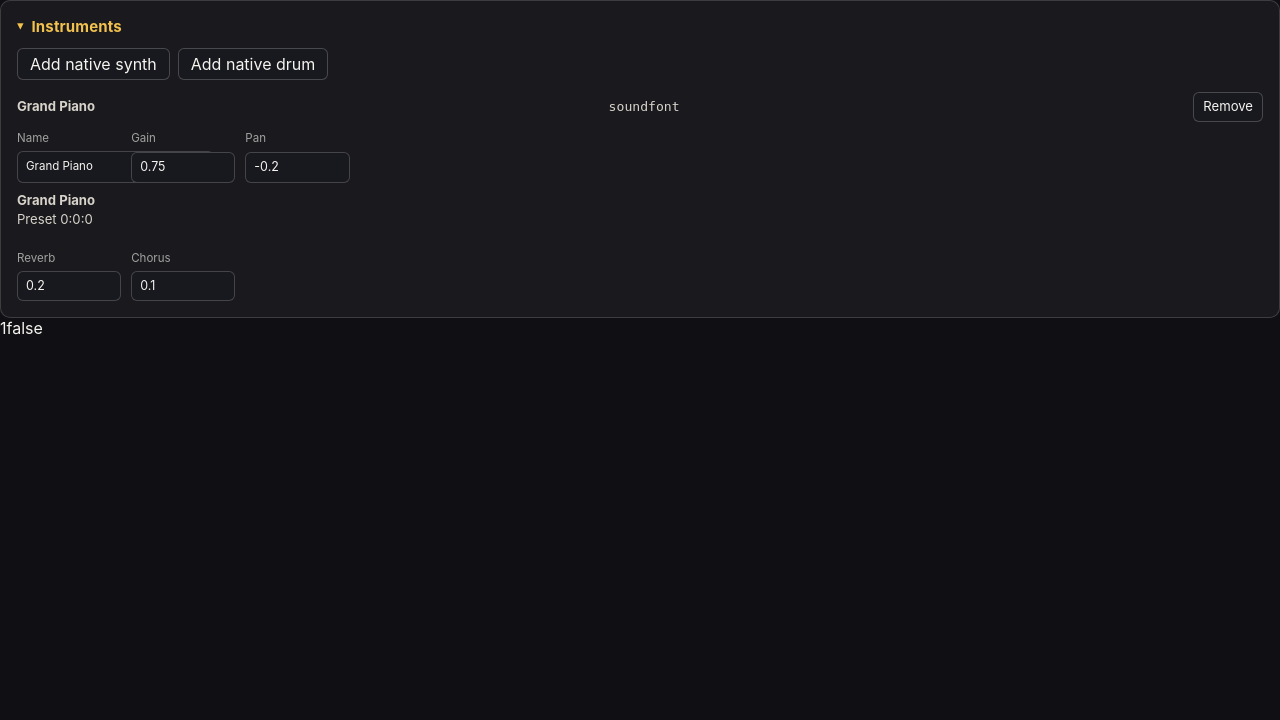
Scenario: InstrumentPanel add and remove › refuses to remove the last Instrument
Click the button with aria-label "Remove Grand Piano".
click(1228, 107)  # box [1193,92,1263,122]
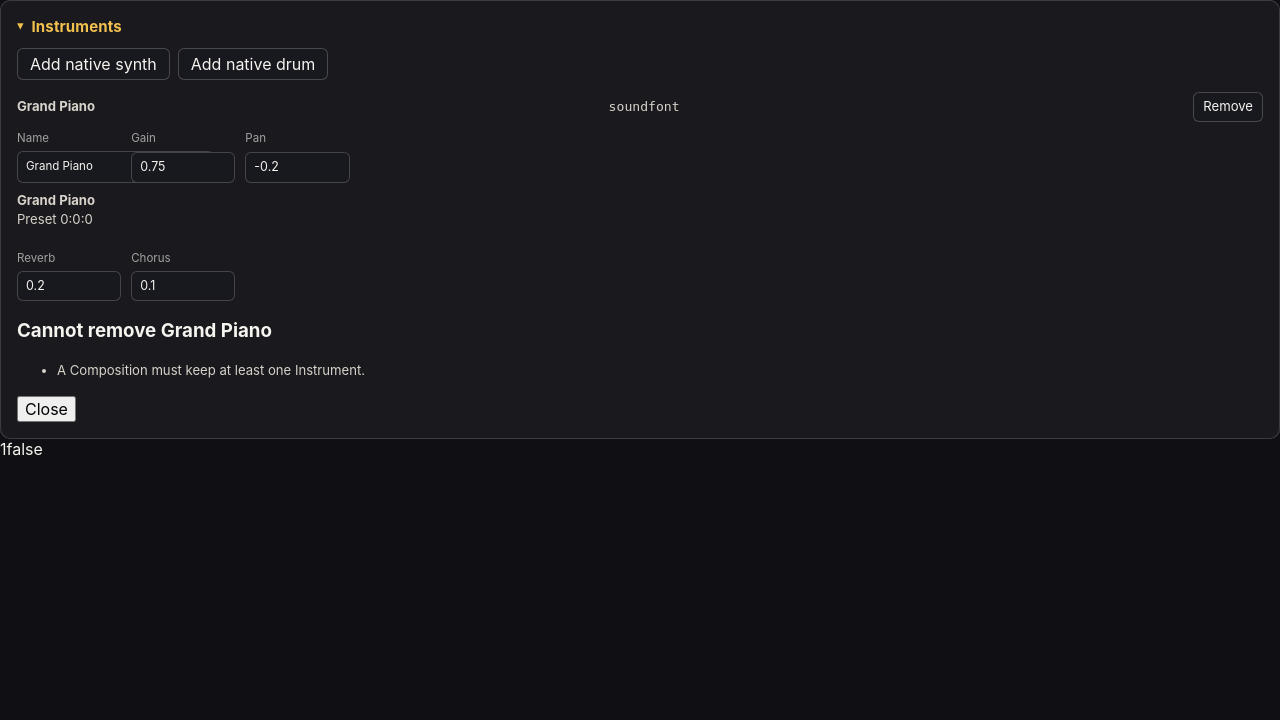
Check: the text named "Instrument count" reads "1", box [0,439,6,459]
Check: the dialog named "Confirm Instrument removal" shows "at least one Instrument", box [57,362,365,378]
